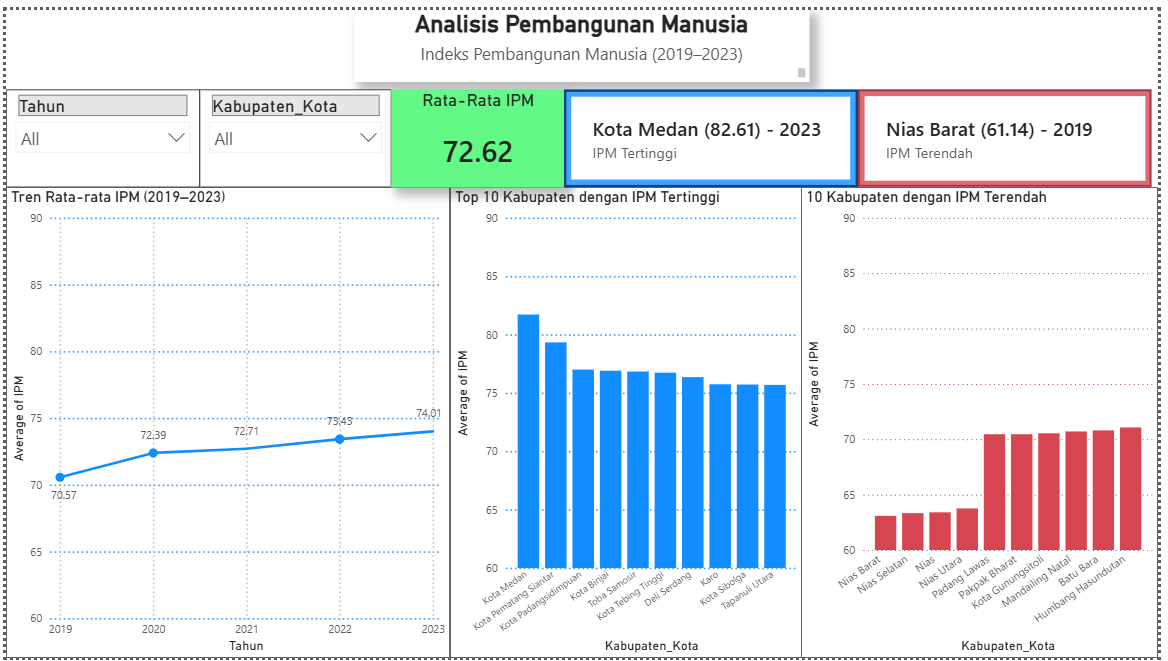

What the dashboard file says about the page in this screenshot:
{"tool":"powerbi","page":{"name":"📊 Analisis IPM","canvas":[1280,720],"ordinal":1},"visuals":[{"type":"lineChart","title":"Tren Rata-rata IPM (2019–2023)","fields":{"Category":["dim_tahun.Tahun"],"Y":["Avg(ipm_master.IPM)"]},"box":[0,196.7,493.3,523.3],"z":0},{"type":"clusteredColumnChart","title":"Top 10 Kabupaten dengan IPM Tertinggi","fields":{"Category":["ipm_master.Kabupaten_Kota"],"Y":["Avg(ipm_master.IPM)"]},"box":[493.3,196.7,391.7,523.3],"z":1000},{"type":"clusteredColumnChart","title":"10 Kabupaten dengan IPM Terendah","fields":{"Category":["ipm_master.Kabupaten_Kota"],"Y":["Avg(ipm_master.IPM)"]},"box":[883.3,196.7,396.7,523.3],"z":2000},{"type":"textbox","title":"Analisis Pembangunan Manusia","box":[387,0,506,80],"z":3000},{"type":"slicer","fields":{"Values":["dim_tahun.Tahun"]},"box":[0,88.3,215,108.3],"z":4000},{"type":"slicer","fields":{"Values":["dim_wilayah.Kabupaten_Kota"]},"box":[215,88.3,213.3,108.3],"z":5000},{"type":"cardVisual","title":"Rata-Rata IPM","fields":{"Data":["Avg(ipm_master.IPM)"]},"box":[428.3,88.3,191.7,108.3],"z":6000},{"type":"cardVisual","fields":{"Data":["Tables.IPM Tertinggi"]},"box":[620,88.3,326.7,108.3],"z":7000},{"type":"cardVisual","fields":{"Data":["Tables.IPM Terendah"]},"box":[946.7,88.3,326,108],"z":8000}]}

Visuals, with their boxes in screenshot pixels (x1, y1, x2, y2), scaled from the page's 1280x720 canvas onto the 1168x661 screenshot:
"Tren Rata-rata IPM (2019–2023)" lineChart: 0/181/450/660
"Top 10 Kabupaten dengan IPM Tertinggi" clusteredColumnChart: 450/181/808/660
"10 Kabupaten dengan IPM Terendah" clusteredColumnChart: 806/181/1167/660
"Analisis Pembangunan Manusia" textbox: 353/0/815/73
slicer - dim_tahun.Tahun: 0/81/196/180
slicer - dim_wilayah.Kabupaten_Kota: 196/81/391/180
"Rata-Rata IPM" cardVisual: 391/81/566/180
cardVisual - Tables.IPM Tertinggi: 566/81/864/180
cardVisual - Tables.IPM Terendah: 864/81/1161/180
